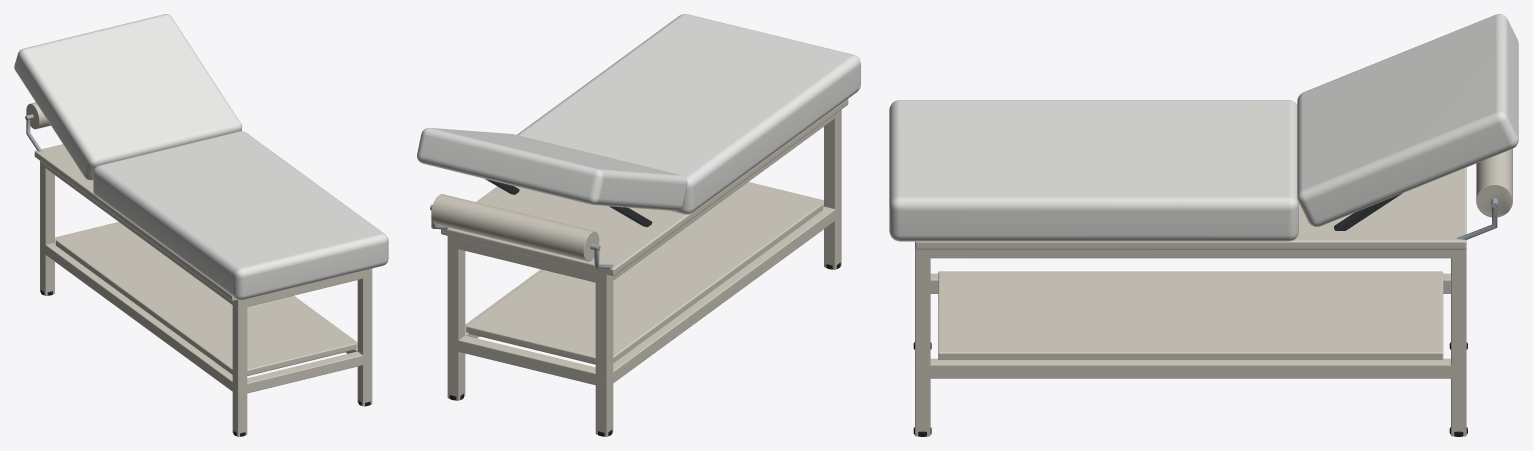
Rendered from crime-examination-table.glb.
3 renders of one model, left to right at view 1: azimuth 30°, elevation 25°; view 2: azimuth 150°, elevation 25°; view 3: azimuth 270°, elevation 25°, orthographic. The views are drawn at different scales.
Visible parts, largest first — view 1: Upholstered lower couch, Adjustable padded backrest, Clinic supply shelf, End frame tie, Continuous couch bearing deck, Long frame tie, Structural corner upright, Structural corner upright.002, Structural corner upright.001, Long frame tie.002, End frame tie.002, Disposable paper roll; view 2: Upholstered lower couch, Clinic supply shelf, Adjustable padded backrest, Continuous couch bearing deck, Disposable paper roll, End frame tie, Structural corner upright.001, Long frame tie.001, Structural corner upright.003, Structural corner upright, Long frame tie.003, End frame tie.002; view 3: Upholstered lower couch, Clinic supply shelf, Adjustable padded backrest, Continuous couch bearing deck, End frame tie.001, End frame tie.003, Structural corner upright.002, Structural corner upright.003, Disposable paper roll.
Part boxes in pixels (<box>): Upholstered lower couch: <box>93,131,388,300</box>; Adjustable padded backrest: <box>14,14,242,180</box>; Clinic supply shelf: <box>55,224,356,375</box>; End frame tie: <box>45,242,246,395</box>; Continuous couch bearing deck: <box>34,144,237,301</box>; Long frame tie: <box>232,351,372,394</box>; Structural corner upright: <box>232,300,247,436</box>; Structural corner upright.002: <box>357,276,372,406</box>; Structural corner upright.001: <box>40,164,54,295</box>; Long frame tie.002: <box>232,268,372,308</box>; End frame tie.002: <box>45,164,246,308</box>; Disposable paper roll: <box>26,102,50,129</box>; Upholstered lower couch: <box>517,14,860,214</box>; Clinic supply shelf: <box>466,184,822,364</box>; Adjustable padded backrest: <box>417,128,687,210</box>; Continuous couch bearing deck: <box>441,99,848,276</box>; Disposable paper roll: <box>431,194,599,261</box>; End frame tie: <box>596,206,835,387</box>; Structural corner upright.001: <box>595,271,613,436</box>; Long frame tie.001: <box>458,335,613,387</box>; Structural corner upright.003: <box>447,235,465,400</box>; Structural corner upright: <box>824,113,841,269</box>; Long frame tie.003: <box>458,238,613,284</box>; End frame tie.002: <box>596,114,835,284</box>; Upholstered lower couch: <box>889,100,1298,241</box>; Clinic supply shelf: <box>938,271,1443,359</box>; Adjustable padded backrest: <box>1297,14,1518,226</box>; Continuous couch bearing deck: <box>915,167,1466,249</box>; End frame tie.001: <box>929,358,1451,378</box>; End frame tie.003: <box>929,249,1451,258</box>; Structural corner upright.002: <box>915,249,930,436</box>; Structural corner upright.003: <box>1451,248,1466,436</box>; Disposable paper roll: <box>1476,149,1512,217</box>.
Bounding box in the file's own units: 0.743 × 1.09 × 1.89.
5 materials, 5 textured.
